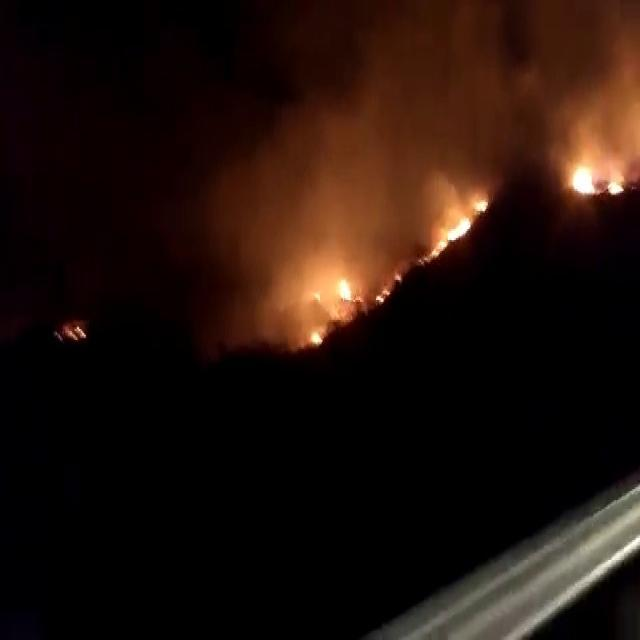Fire: (423, 193, 488, 262), (568, 162, 623, 196), (305, 280, 363, 308), (305, 329, 327, 346)
Smoke: (197, 20, 632, 342)
